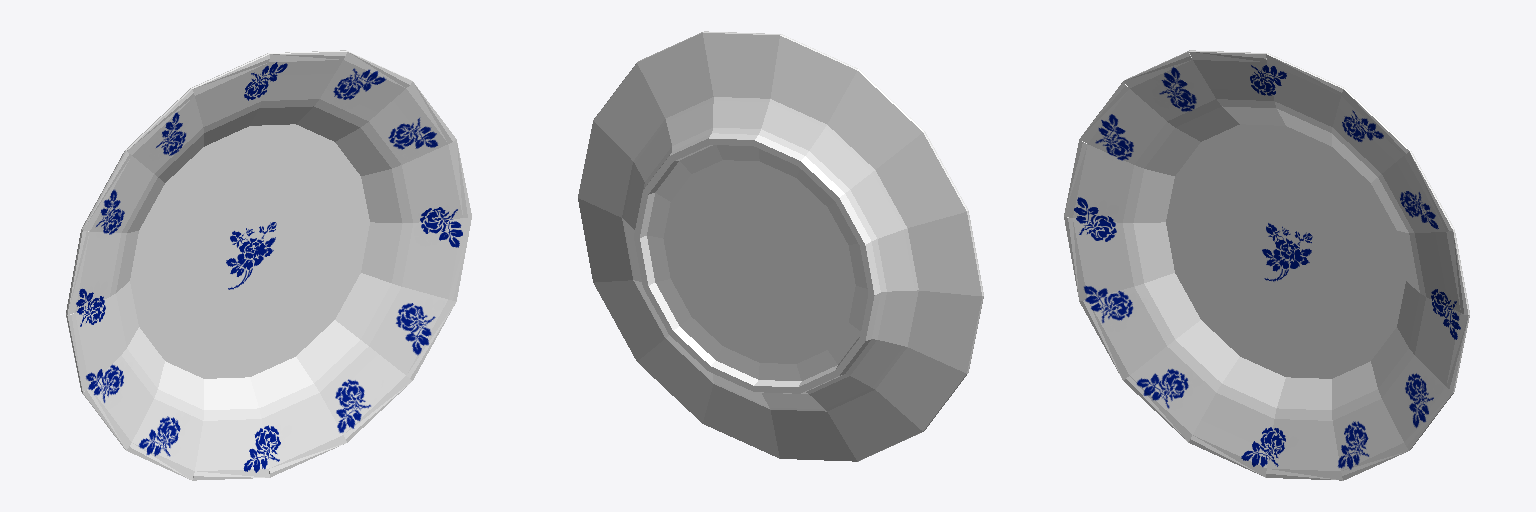
The picture shows the model from 3 angles: view 1: azimuth 30°, elevation 25°; view 2: azimuth 150°, elevation 25°; view 3: azimuth 330°, elevation 25°; orthographic projection.
Visible parts, largest first — view 1: Plate; view 2: Plate; view 3: Plate.
Boxes of the visible parts, x1=… form: Plate: x1=66, y1=50, x2=471, y2=480; Plate: x1=578, y1=31, x2=983, y2=461; Plate: x1=1064, y1=50, x2=1469, y2=480.
Bounding box in the file's own units: 7.51 × 7.51 × 0.8886.
2 materials, 1 textured.